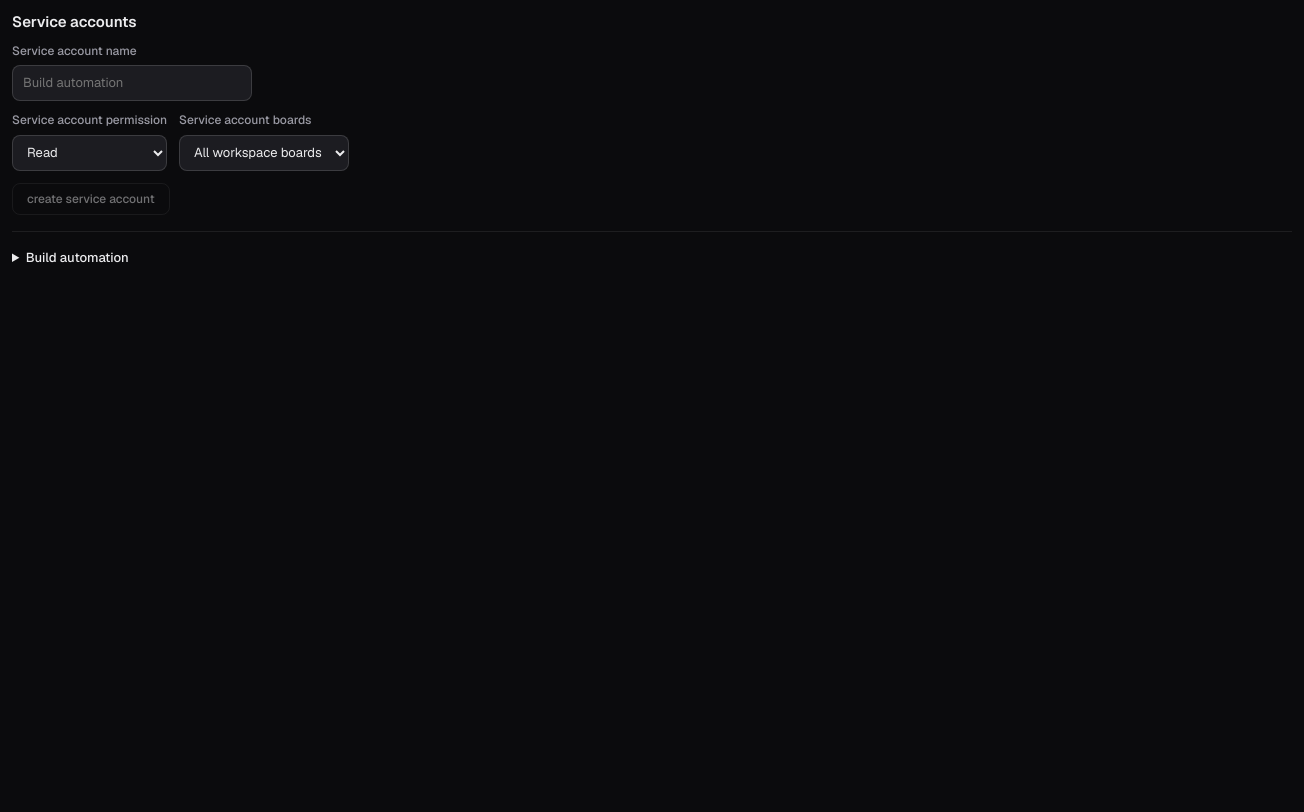
Test: workspace service accounts › can disable an account after its last selected board moves, and requires a valid board to enable it
The width and height of the screenshot is (1304, 812).
Click the heading "Build automation" at (77,257), box [26,249,129,266]
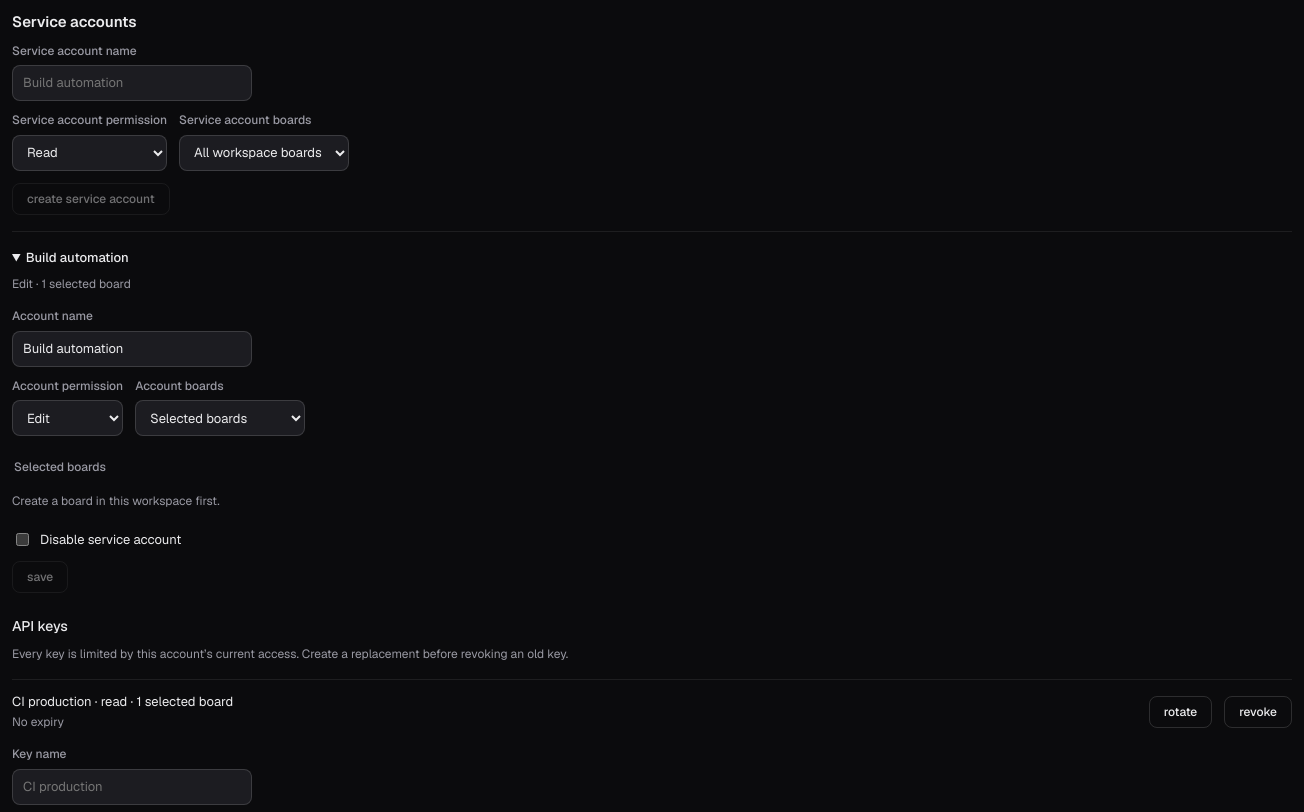
Now the button "save" is disabled, box [12,562,68,594]
Click the checkbox labelled "Disable service account" at (22,540), box [16,533,29,546]
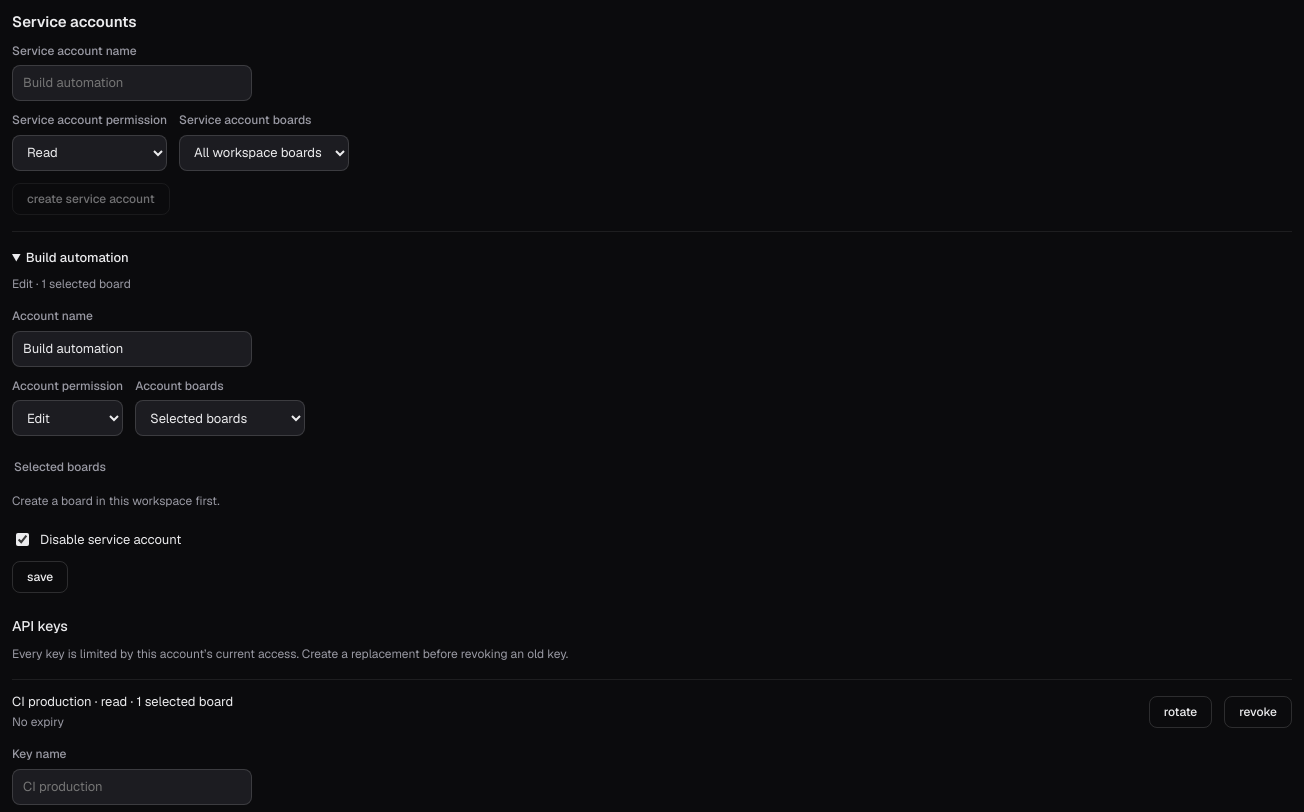
Now the button "save" is enabled, box [12,562,68,594]
Submit the form named "Edit service account Build automation", box [12,308,305,594]
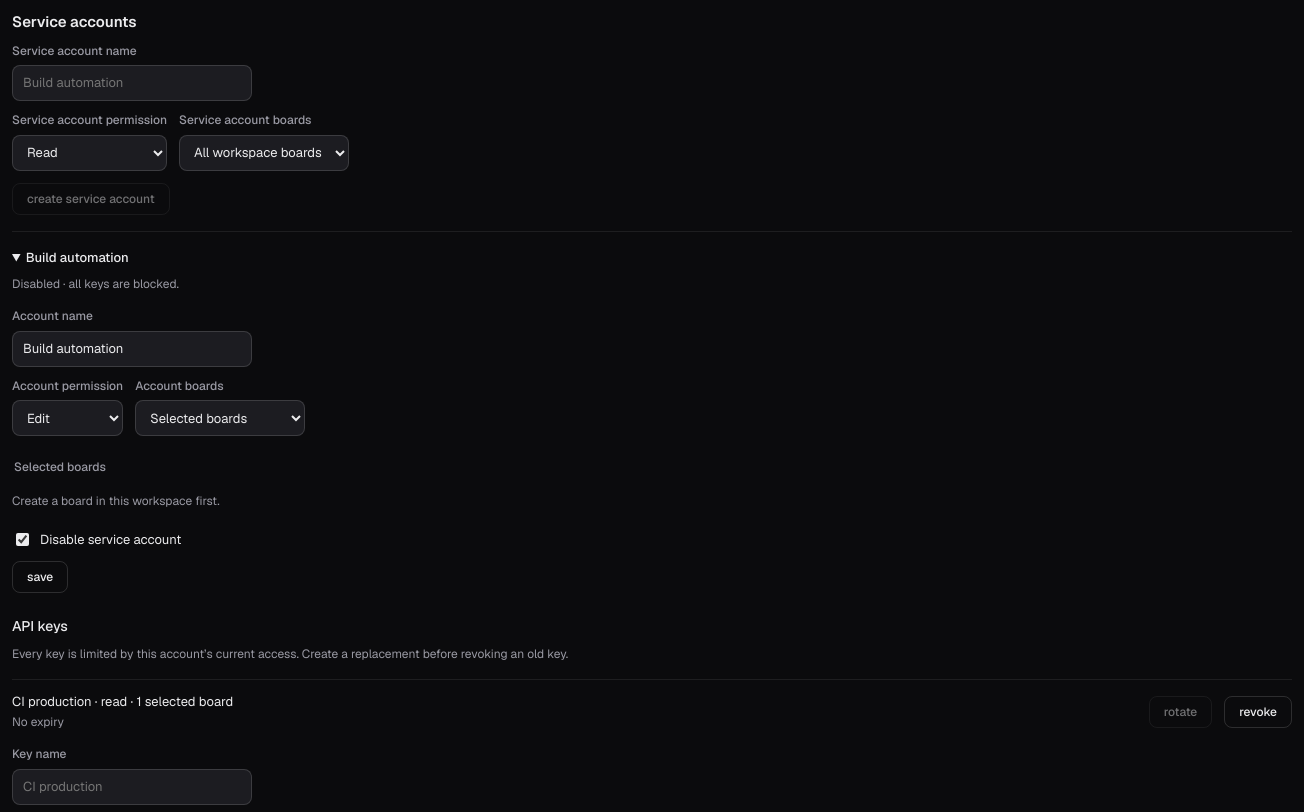
Now the checkbox labelled "Disable service account" is checked
Click the checkbox labelled "Disable service account" at (22,540), box [16,533,29,546]
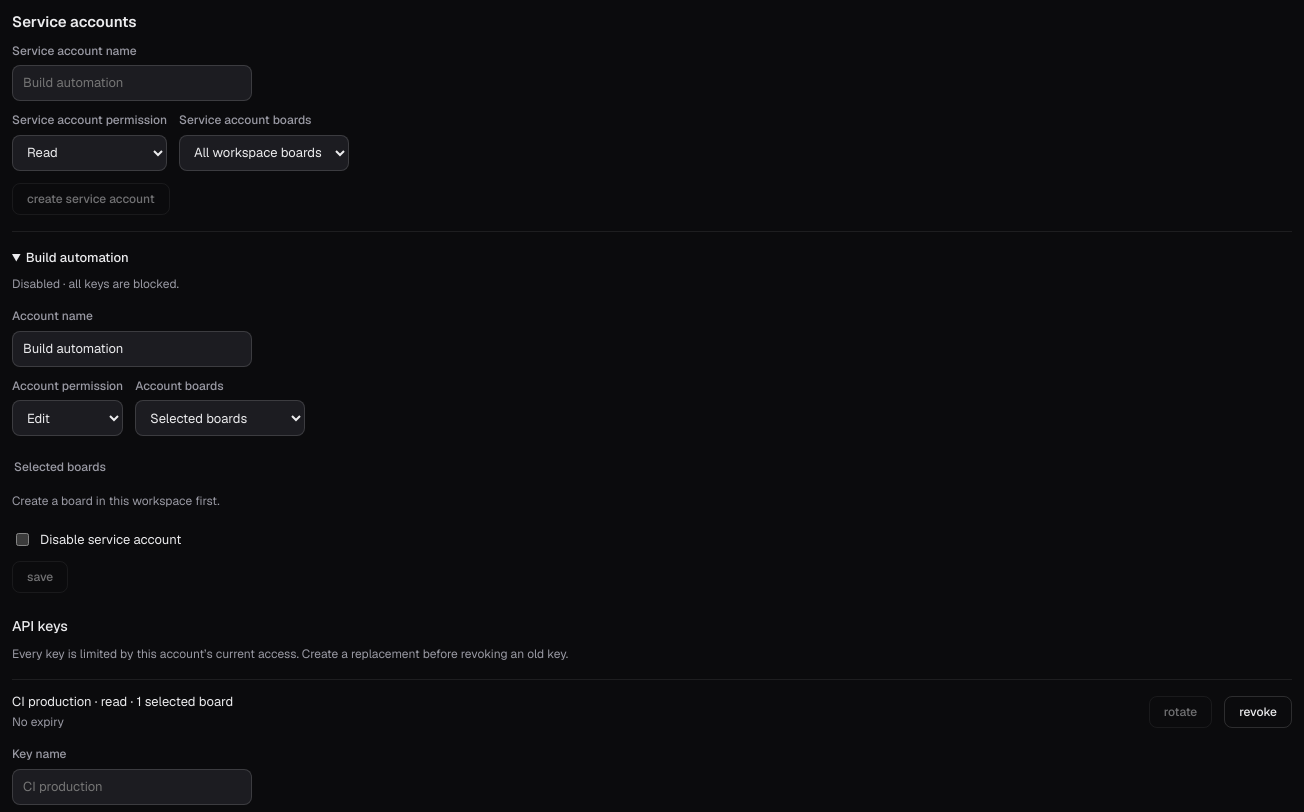
Now the button "save" is disabled, box [12,562,68,594]
